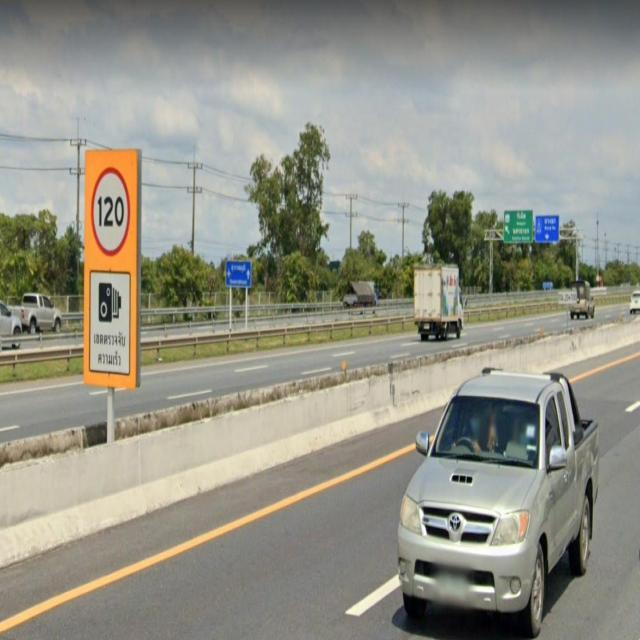car: (398, 368, 599, 634), (414, 265, 464, 339), (12, 292, 62, 334), (570, 281, 595, 318)
road-signs: (84, 149, 141, 389)
